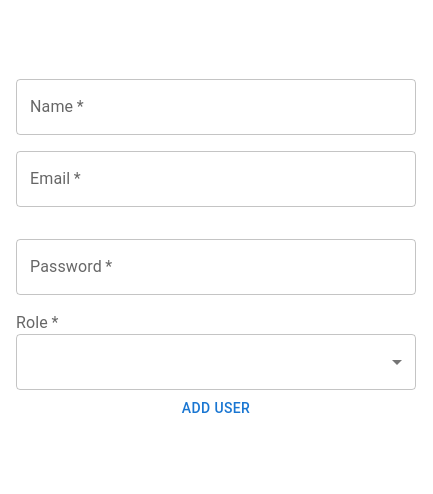
it: AddUserFormLeicht › validates password complexity
Step 1. Type "weak" into the field labelled "Password *" → (216, 267), box [16,239,416,295]
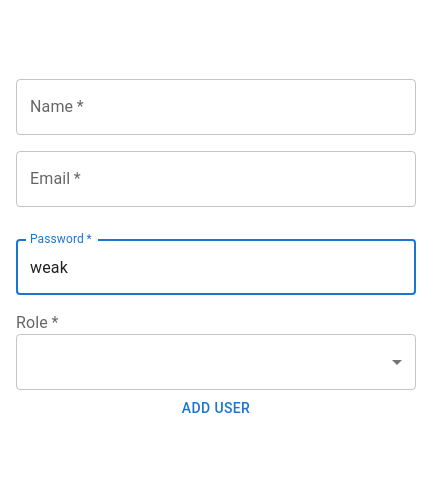
Step 2. Submit the form
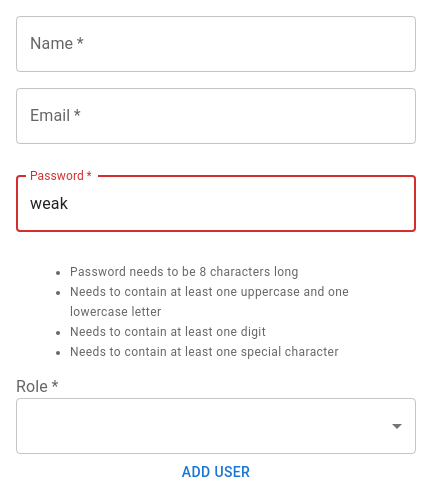
Expected: the list item "Password needs to be 8 characters long" is shown, [70,265,299,279]
